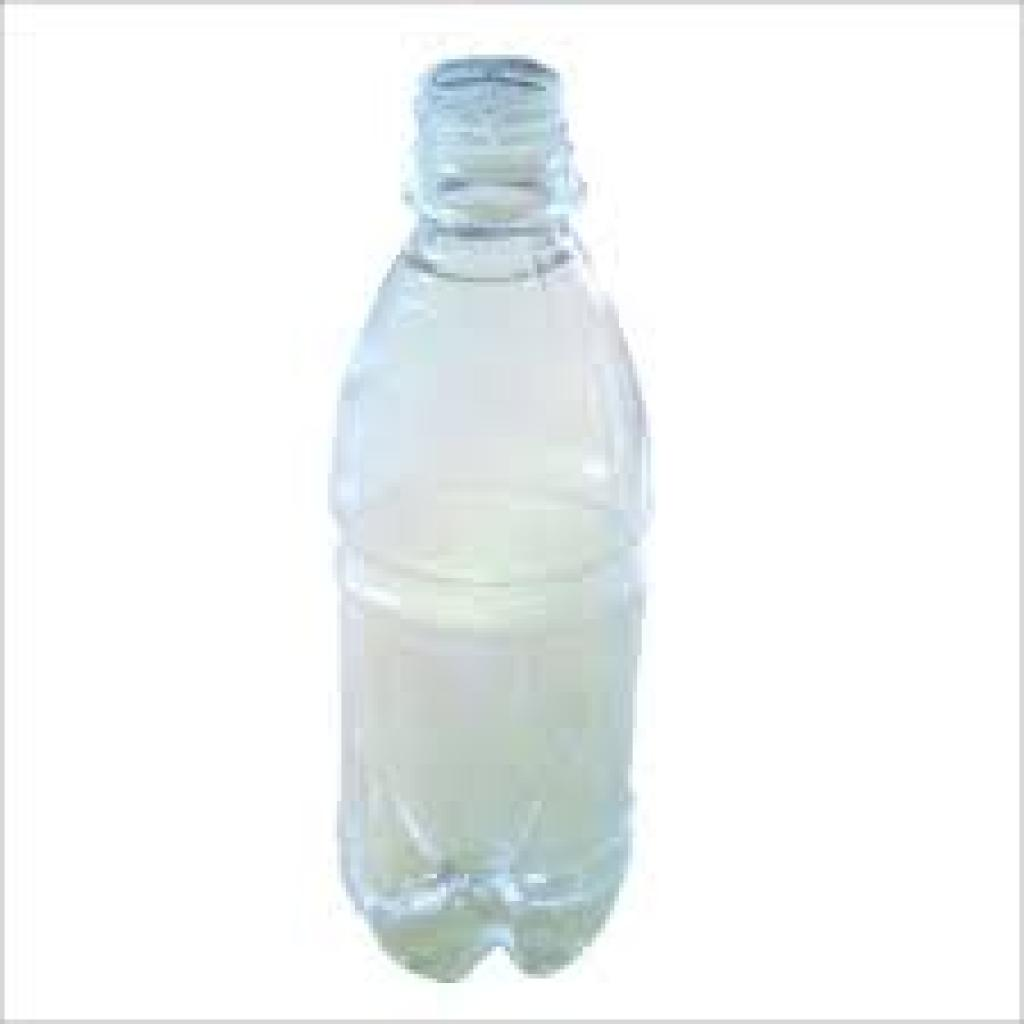organico: (311, 40, 661, 1018)
